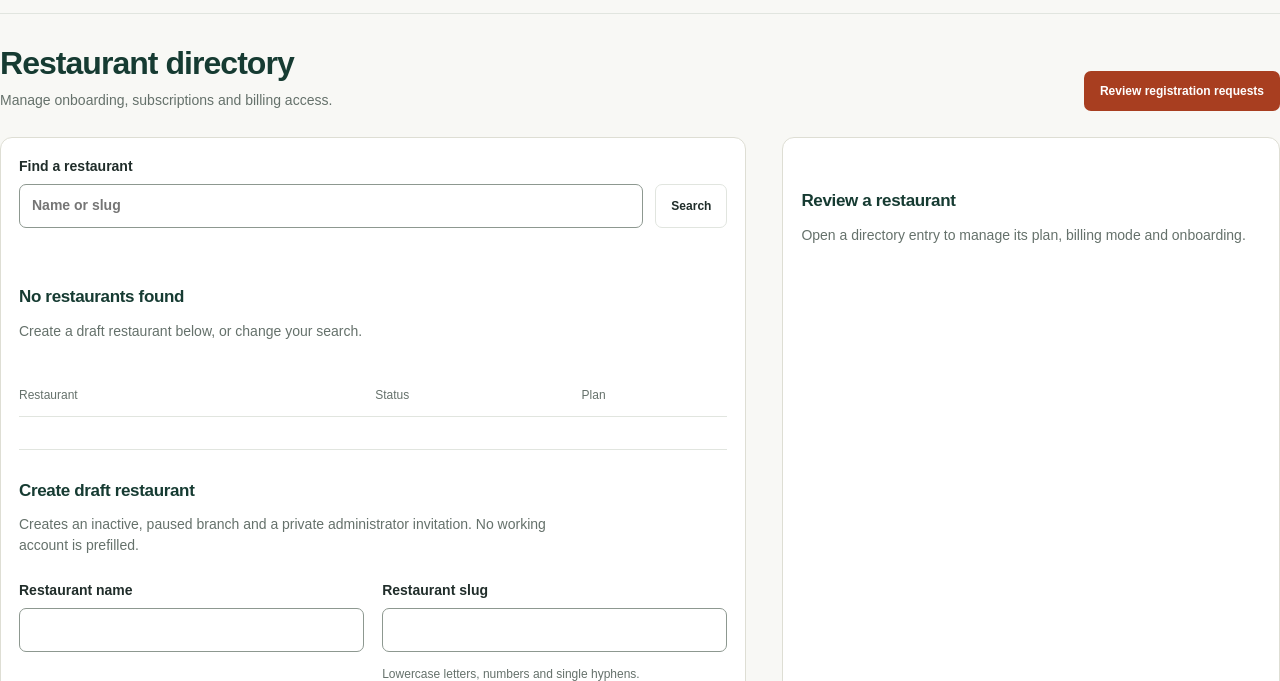
Test: platform empty directory has an actionable create form and sends session CSRF for provisioning
Expected: the heading "No restaurants found" is shown, [19,287,184,306]
Type "Synthetic restaurant" into the field labelled "Restaurant name".
click(192, 630); type("Synthetic restaurant")  # box [19,608,364,652]
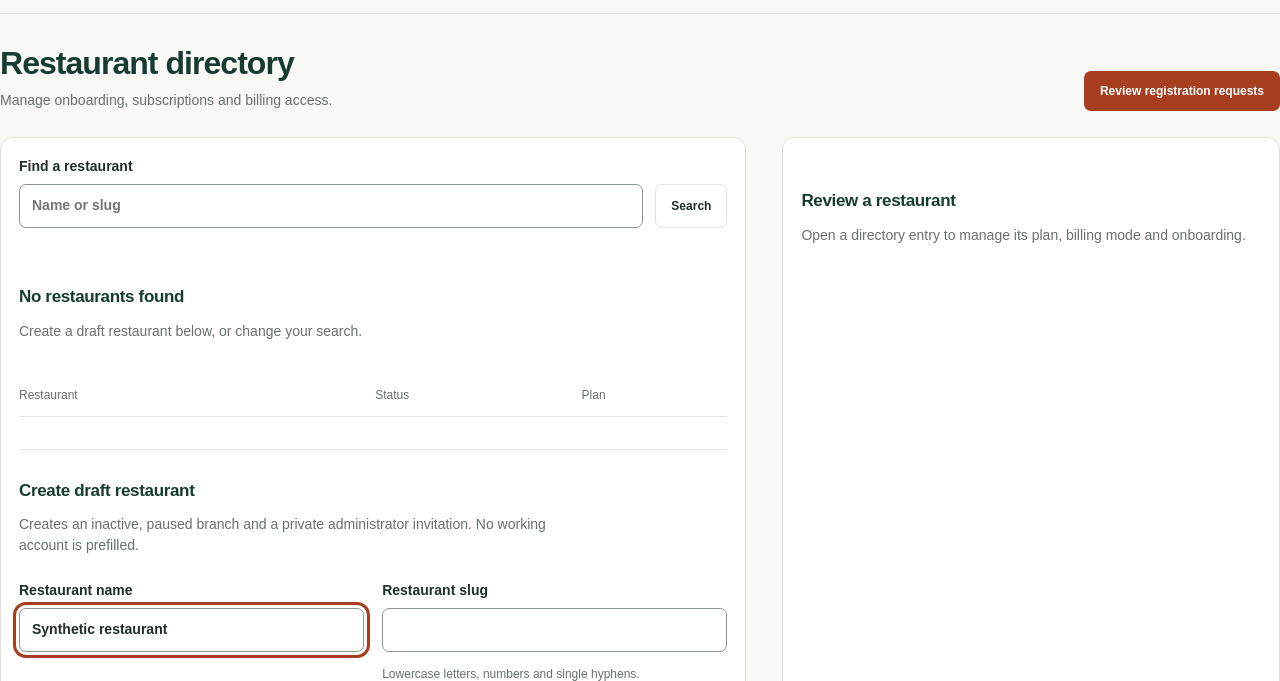
Type "synthetic-restaurant" into the field labelled "Restaurant slug".
click(555, 630); type("synthetic-restaurant")  # box [382,608,727,652]
(page scrolled)
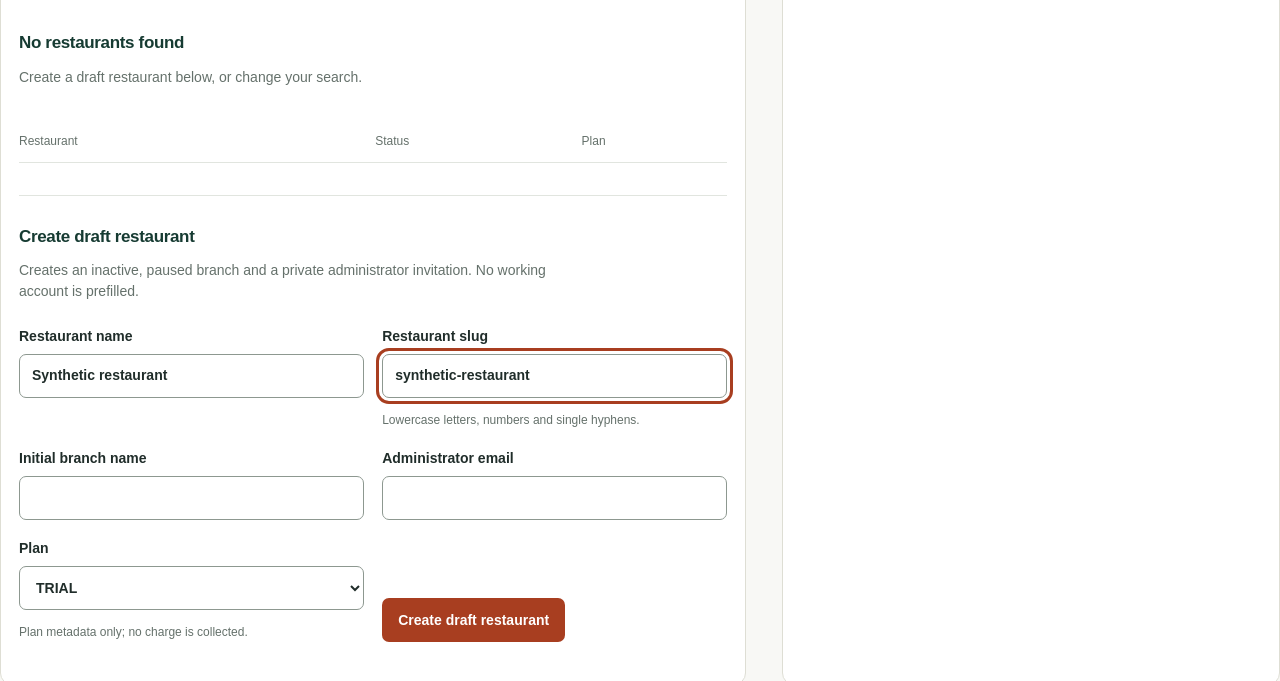
Type "Main branch" into the field labelled "Initial branch name".
click(192, 498); type("Main branch")  # box [19,476,364,520]
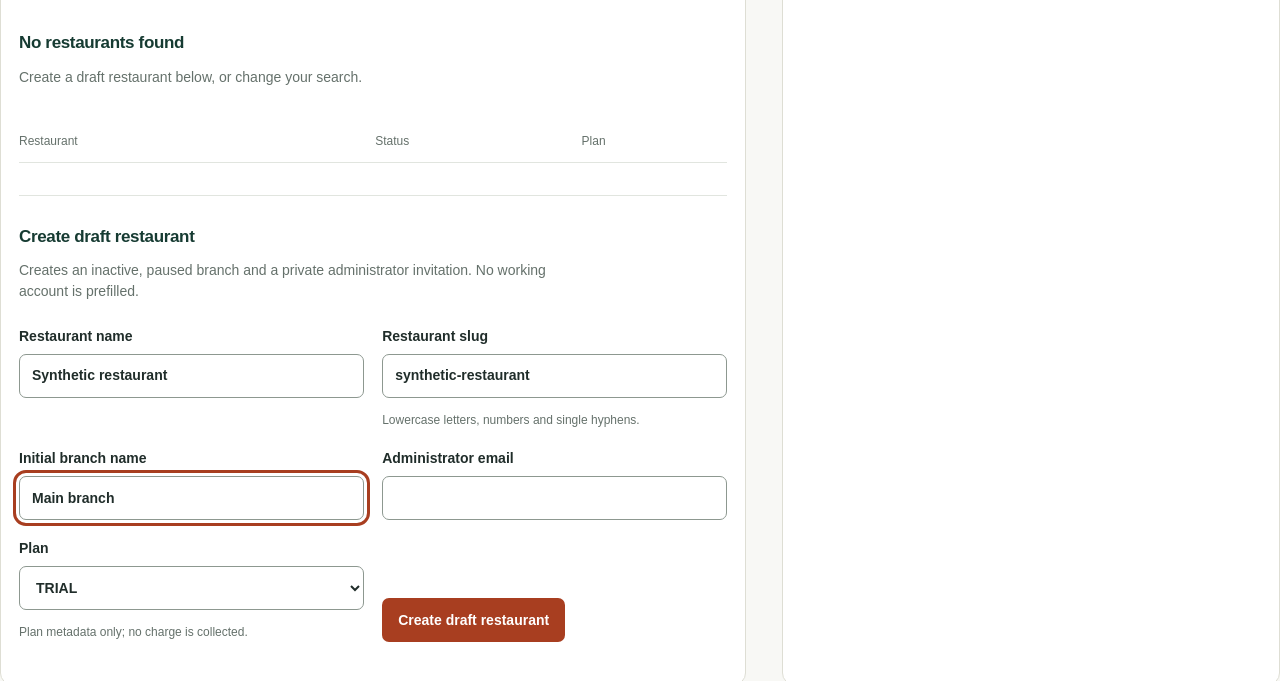
Type "admin@synthetic.test" into the field labelled "Administrator email".
click(555, 498); type("admin@synthetic.test")  # box [382,476,727,520]
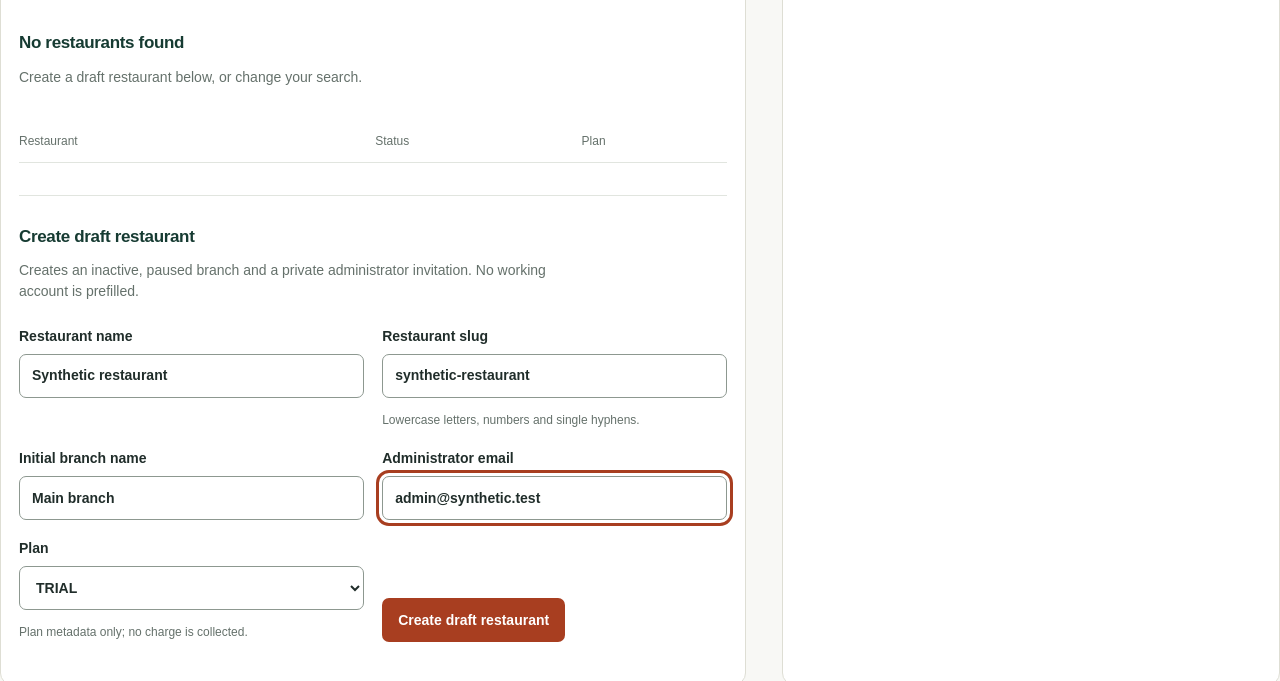
Click the button "Create draft restaurant".
click(474, 620)  # box [382,598,565,642]
(page scrolled)
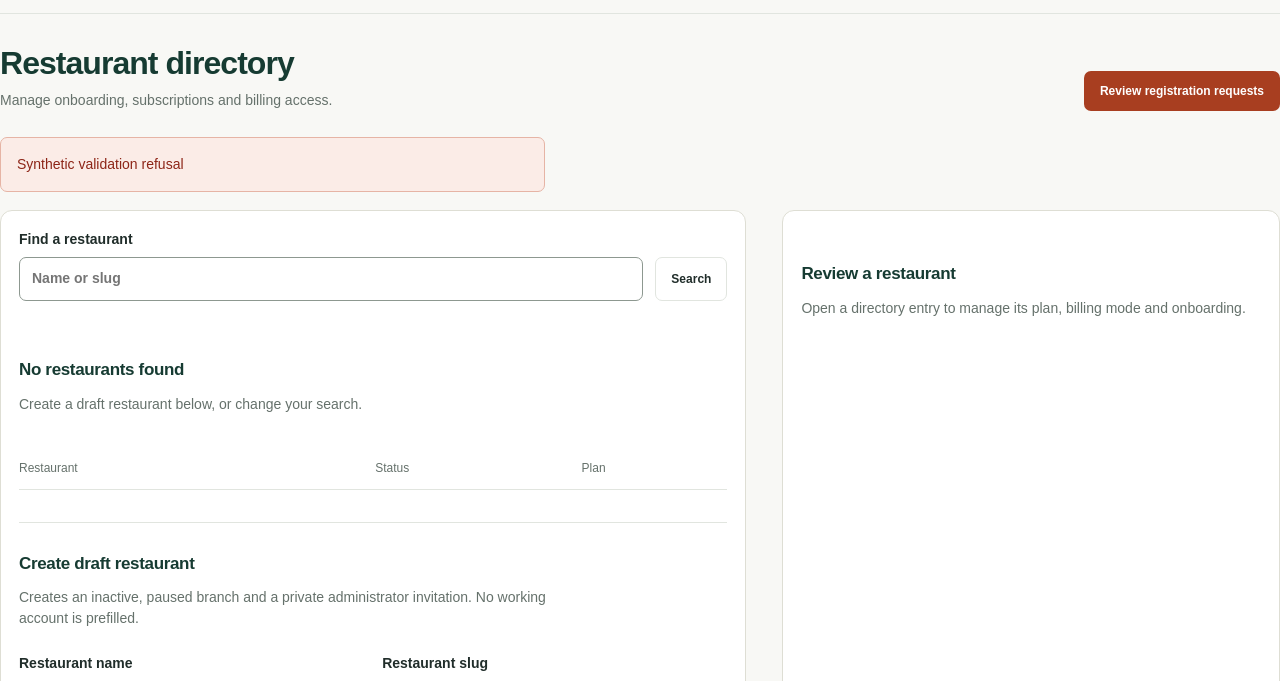
Expected: the message shows "validation refusal", [17,156,184,172]
